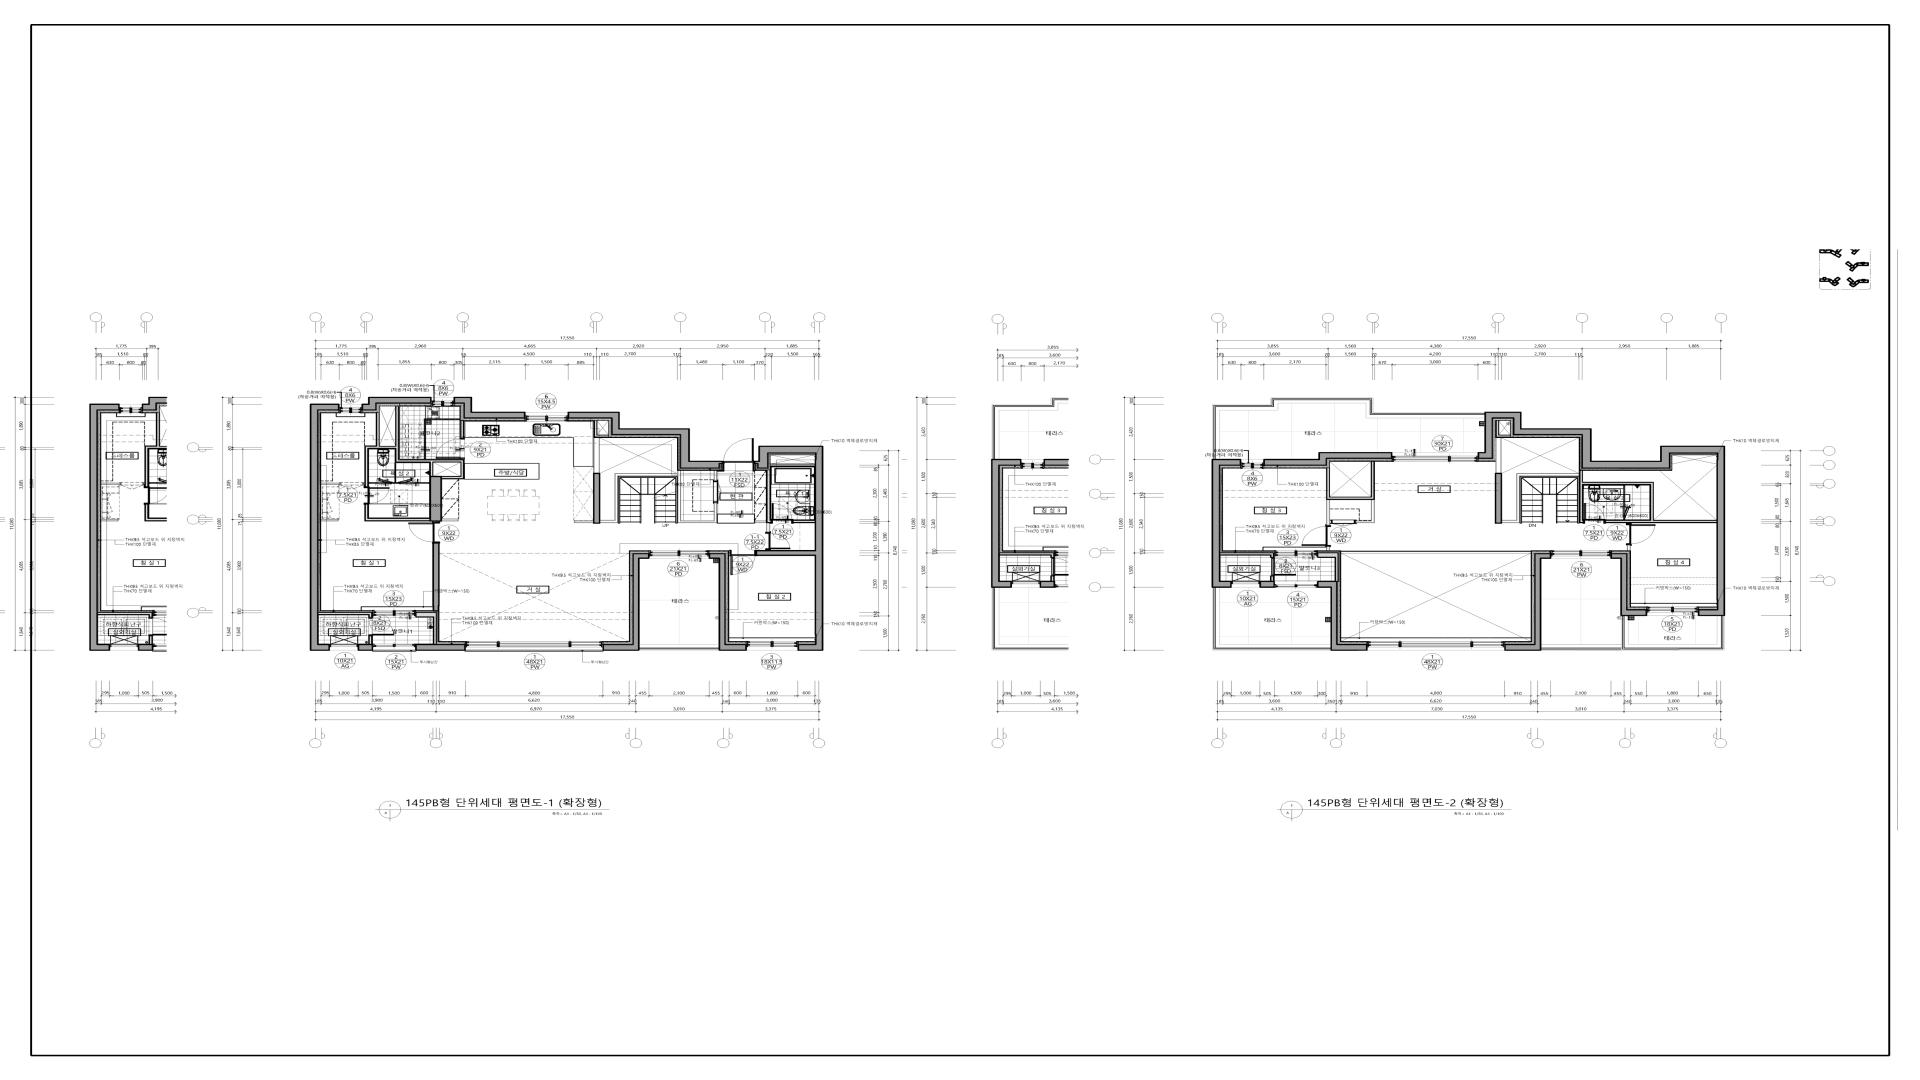door: (723, 438, 754, 472), (729, 550, 757, 575), (409, 522, 440, 543), (1626, 524, 1656, 545), (1302, 526, 1331, 547), (435, 439, 465, 459), (368, 617, 394, 636), (771, 502, 794, 524), (364, 487, 390, 504), (765, 533, 791, 550), (1584, 502, 1605, 524), (1331, 520, 1356, 526), (340, 483, 364, 489)
wall: (1478, 411, 1725, 616), (1212, 397, 1485, 459), (754, 446, 824, 651), (1502, 471, 1717, 524), (568, 411, 723, 468), (364, 406, 465, 487), (310, 404, 340, 651), (1212, 588, 1331, 650), (1542, 616, 1725, 650), (600, 471, 717, 524), (603, 554, 650, 651), (1505, 554, 1551, 651), (708, 554, 748, 651), (1212, 459, 1241, 588), (1317, 582, 1367, 651), (1327, 462, 1375, 526), (1610, 554, 1647, 616), (1263, 452, 1393, 465), (454, 397, 526, 418), (364, 504, 430, 521), (756, 469, 771, 533), (361, 397, 431, 410), (415, 612, 436, 644), (1317, 553, 1338, 582), (430, 476, 442, 522), (433, 543, 439, 611), (415, 644, 465, 651), (1495, 473, 1502, 524), (593, 473, 600, 524), (319, 612, 373, 617), (1221, 553, 1274, 558), (1495, 421, 1511, 438), (593, 438, 600, 473), (1495, 438, 1501, 473), (357, 644, 373, 651), (770, 464, 815, 467), (1259, 582, 1275, 588), (794, 520, 815, 524), (460, 421, 464, 439), (322, 483, 340, 485), (575, 521, 593, 524), (442, 518, 459, 521), (368, 636, 373, 644), (1270, 576, 1275, 582), (715, 471, 717, 481), (1627, 545, 1631, 551), (320, 520, 339, 521), (1327, 547, 1331, 550)
window: (465, 641, 603, 651), (1367, 641, 1505, 650), (1647, 607, 1698, 616), (1551, 550, 1610, 558), (748, 641, 798, 650), (650, 550, 708, 558), (1393, 456, 1478, 462), (526, 413, 568, 422), (373, 644, 415, 651), (1274, 550, 1317, 556), (1275, 582, 1317, 588), (373, 611, 415, 616), (431, 397, 454, 406), (340, 405, 361, 414), (330, 644, 357, 650), (1241, 463, 1263, 469), (1232, 582, 1259, 587)
